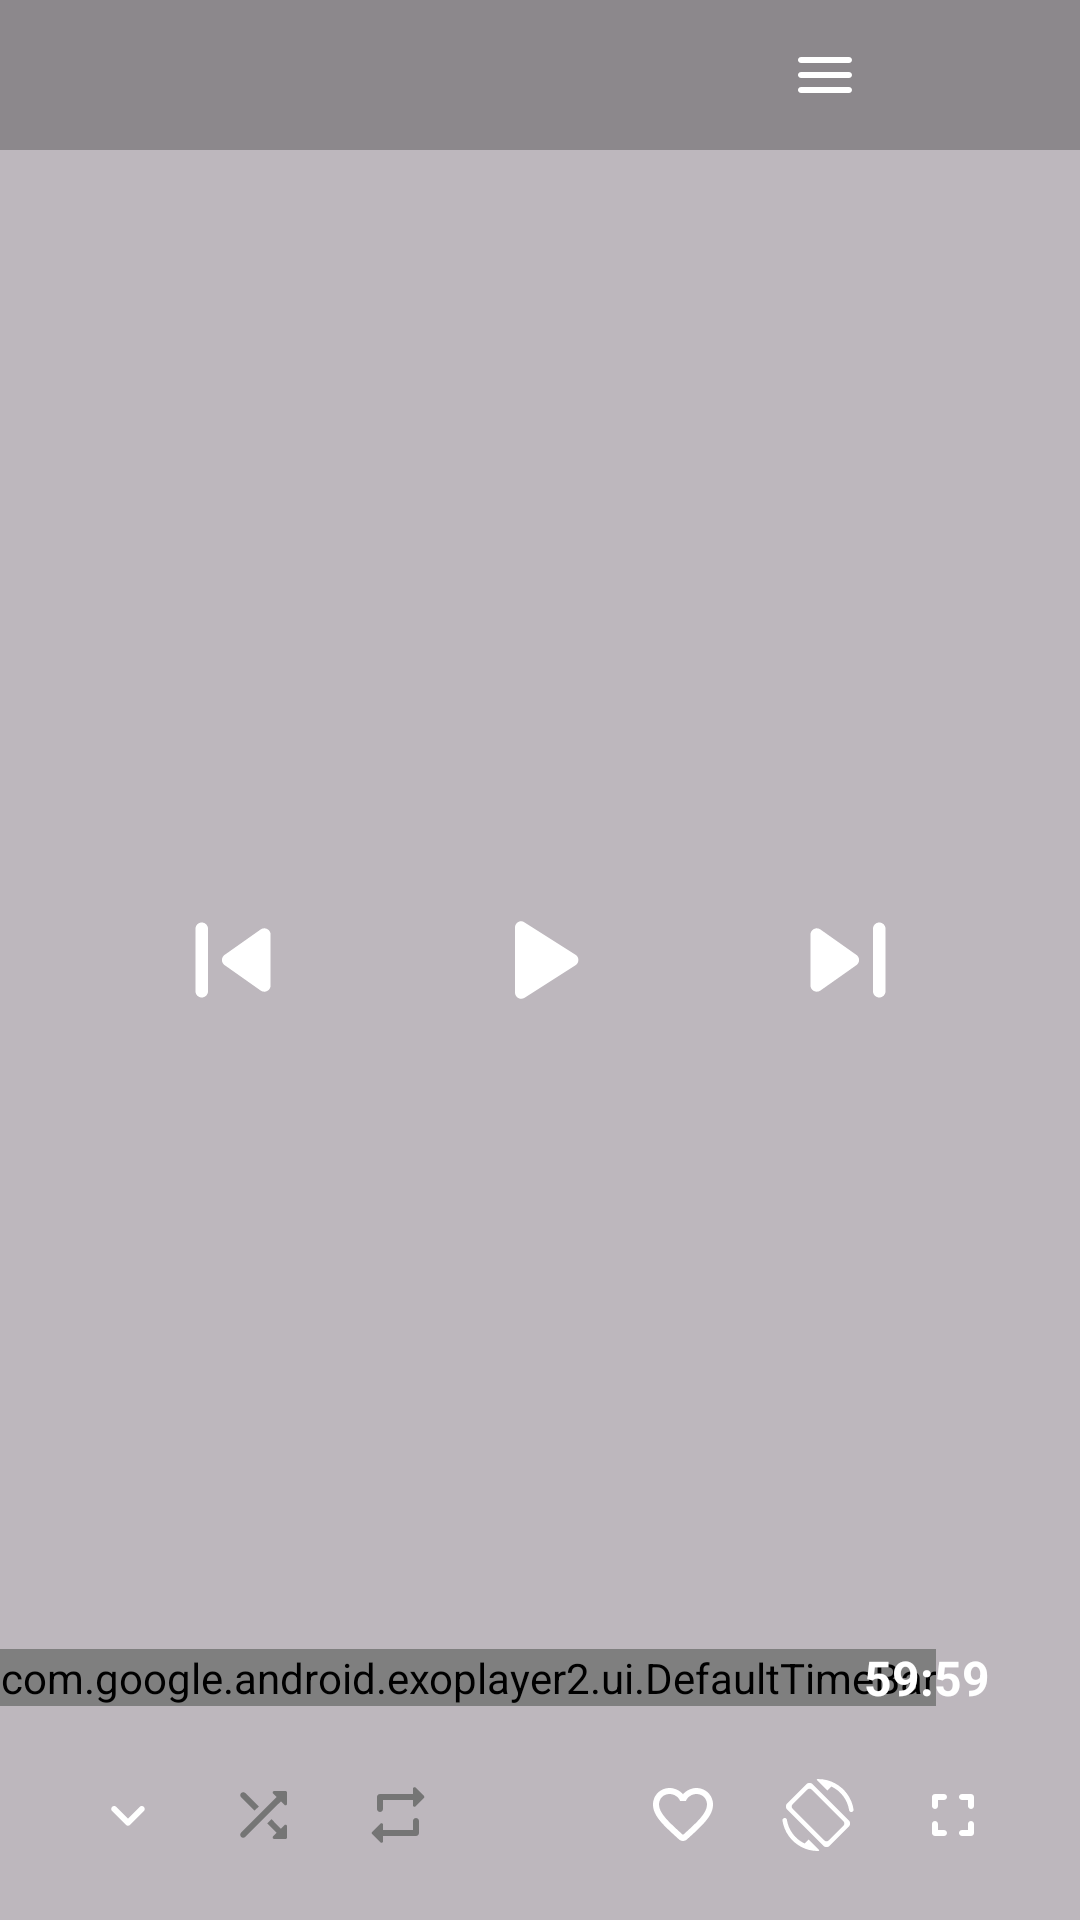

Named icons in this screenshot (1080x1920) and their bounding boxes, (x1, y1, x2, y2):
お気に入り: (653, 1788, 713, 1841)
フルスクリーン: (932, 1794, 974, 1836)
ランダム: (240, 1791, 287, 1839)
再生: (515, 921, 578, 999)
前へ: (195, 922, 271, 998)
動画メニュー: (798, 57, 852, 93)
回転: (782, 1779, 854, 1851)
戻る: (111, 1806, 145, 1826)
次へ: (810, 922, 886, 998)
繰り返し: (372, 1787, 424, 1843)
